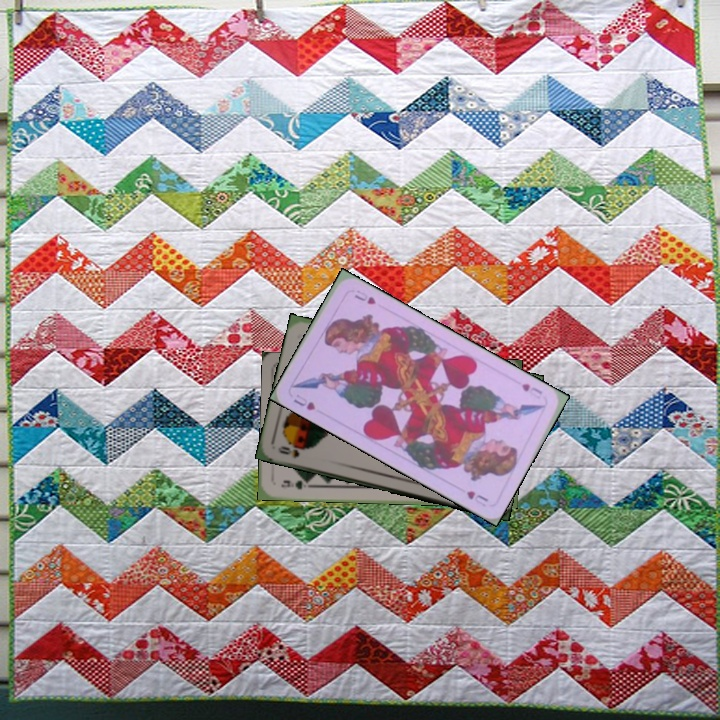G9: (277, 476, 313, 492)
HU: (289, 390, 318, 413), (517, 379, 545, 402)
SO: (274, 442, 307, 461)
